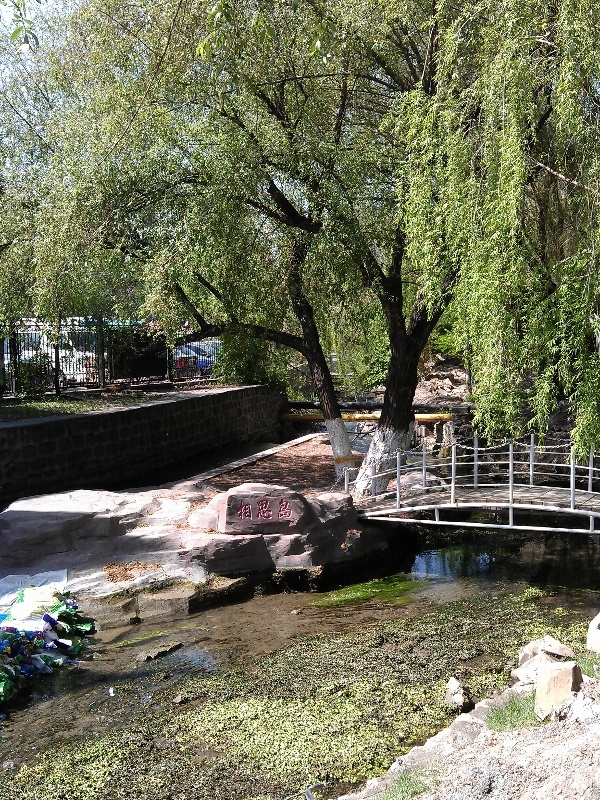text: (241, 497, 256, 524), (257, 497, 272, 524), (273, 497, 288, 524), (289, 497, 294, 524), (237, 497, 240, 524)
